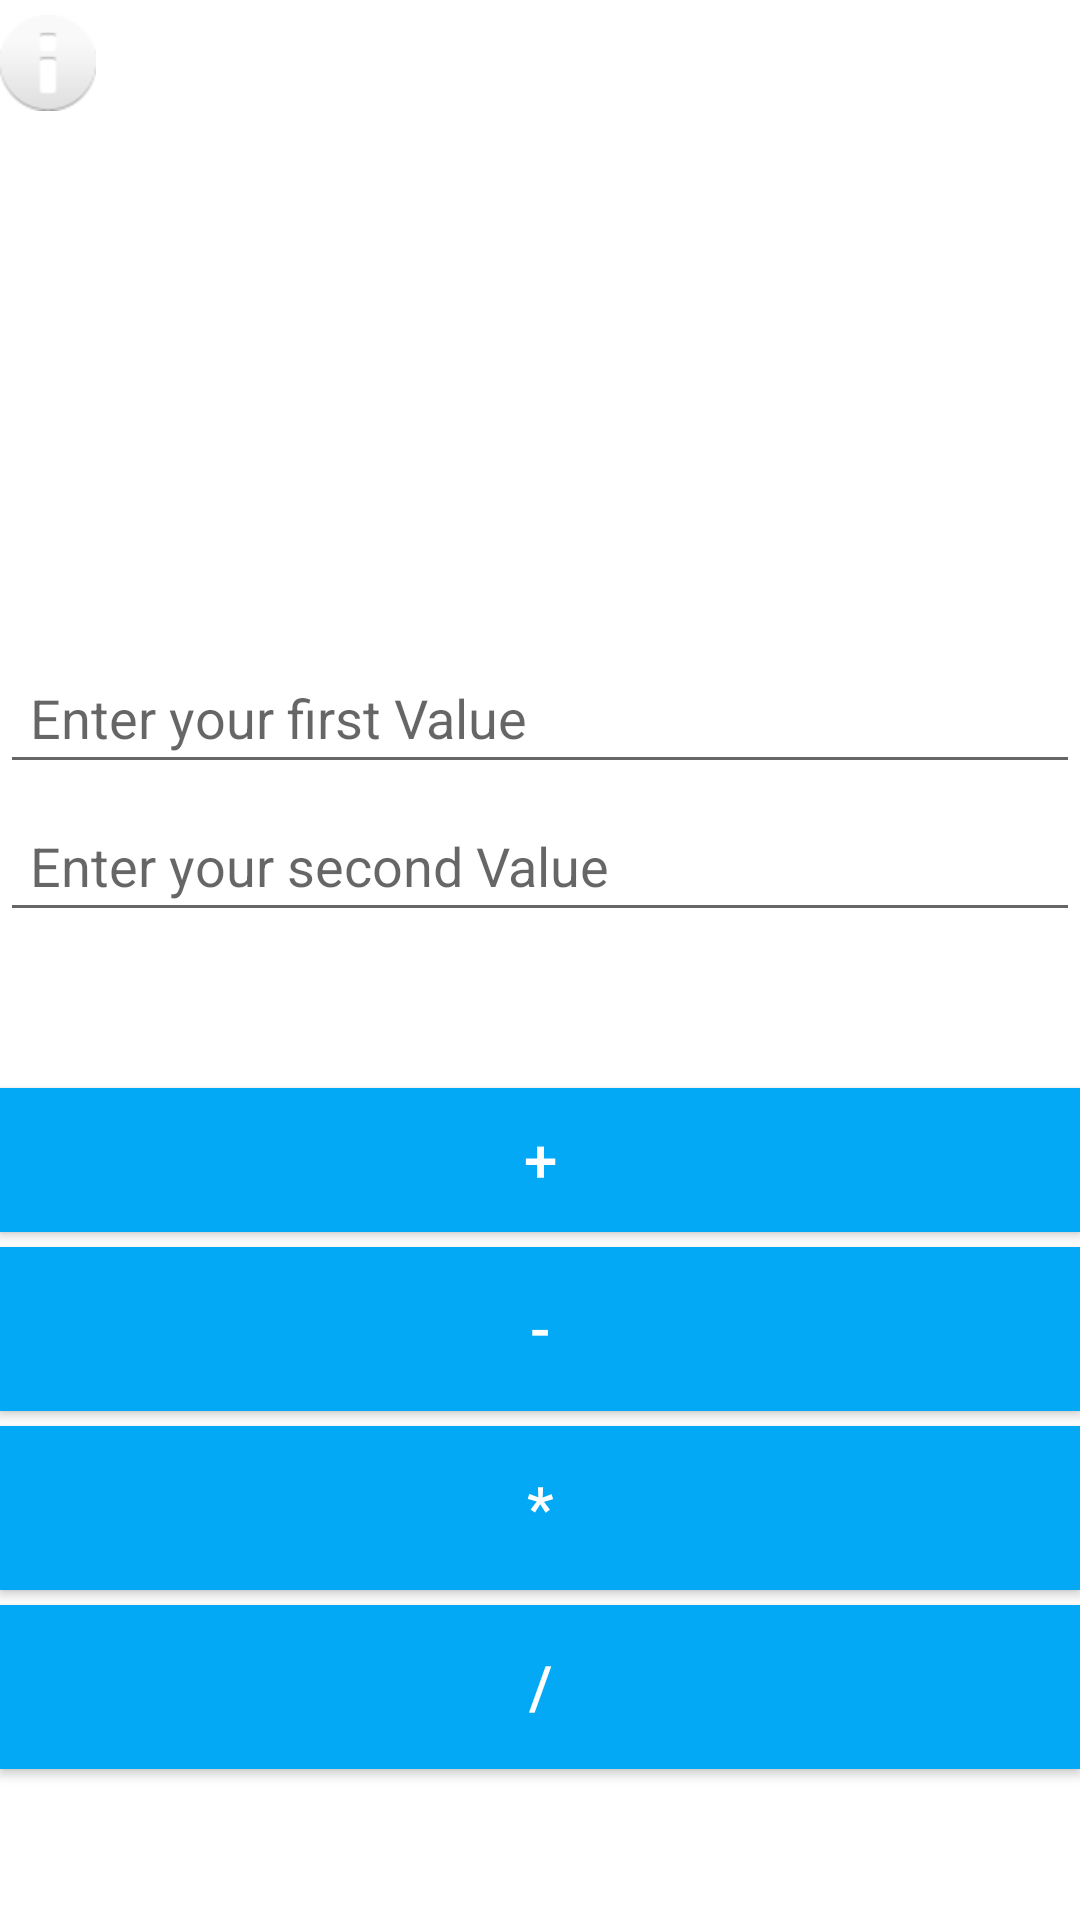

Icons on this 1080px x 1920px Android screen, each with its box as (left=x1, top=y1, right=x2, bottom=y2):
info: (left=0, top=33, right=96, bottom=111)
